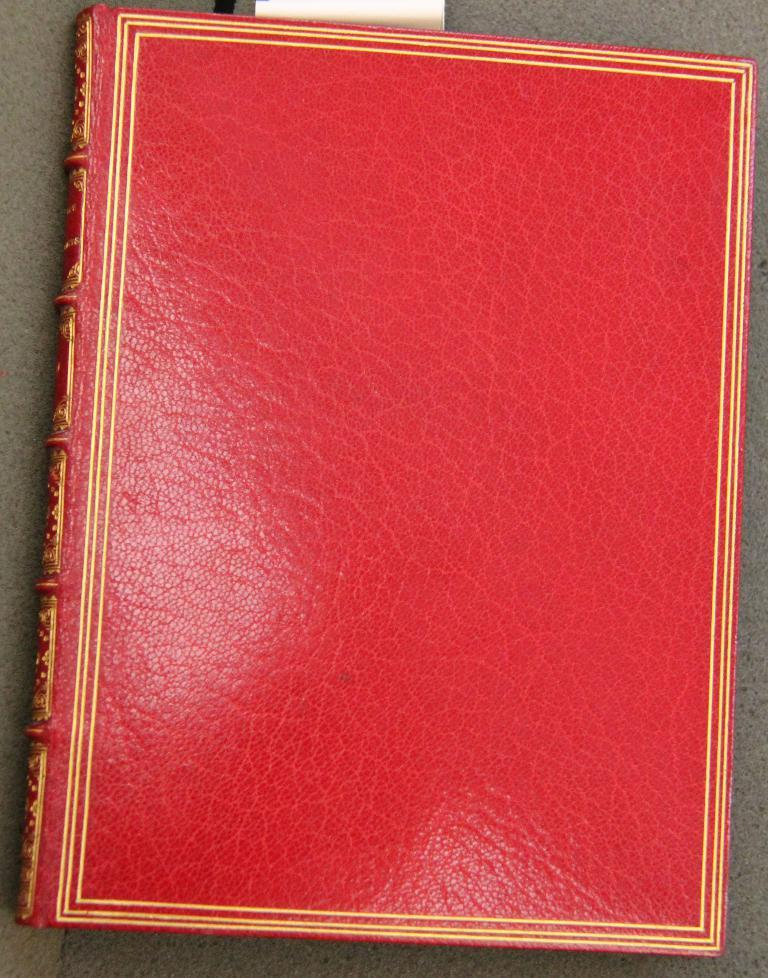book: (19, 1, 756, 960)
